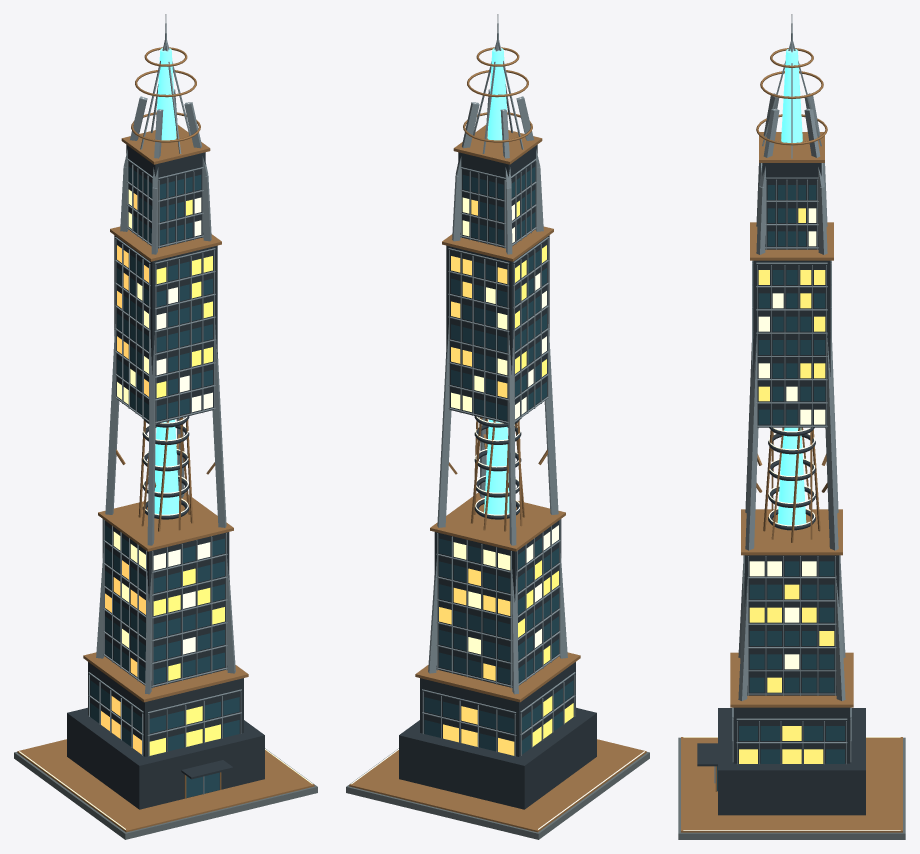
Rendered from agent-spire.lod1.glb.
3 views of the same model, side by side, from view 1: azimuth 30°, elevation 25°; view 2: azimuth 150°, elevation 25°; view 3: azimuth 270°, elevation 25° (orthographic). The views are drawn at different scales.
Parts seen in each view (by area): view 1: structure; view 2: structure; view 3: structure.
Boxes of the visible parts, x1=… form: structure: x1=14, y1=14, x2=317, y2=839; structure: x1=346, y1=14, x2=649, y2=839; structure: x1=678, y1=14, x2=905, y2=839.
Size of the model in its own units: 23 by 86.9 by 23.
